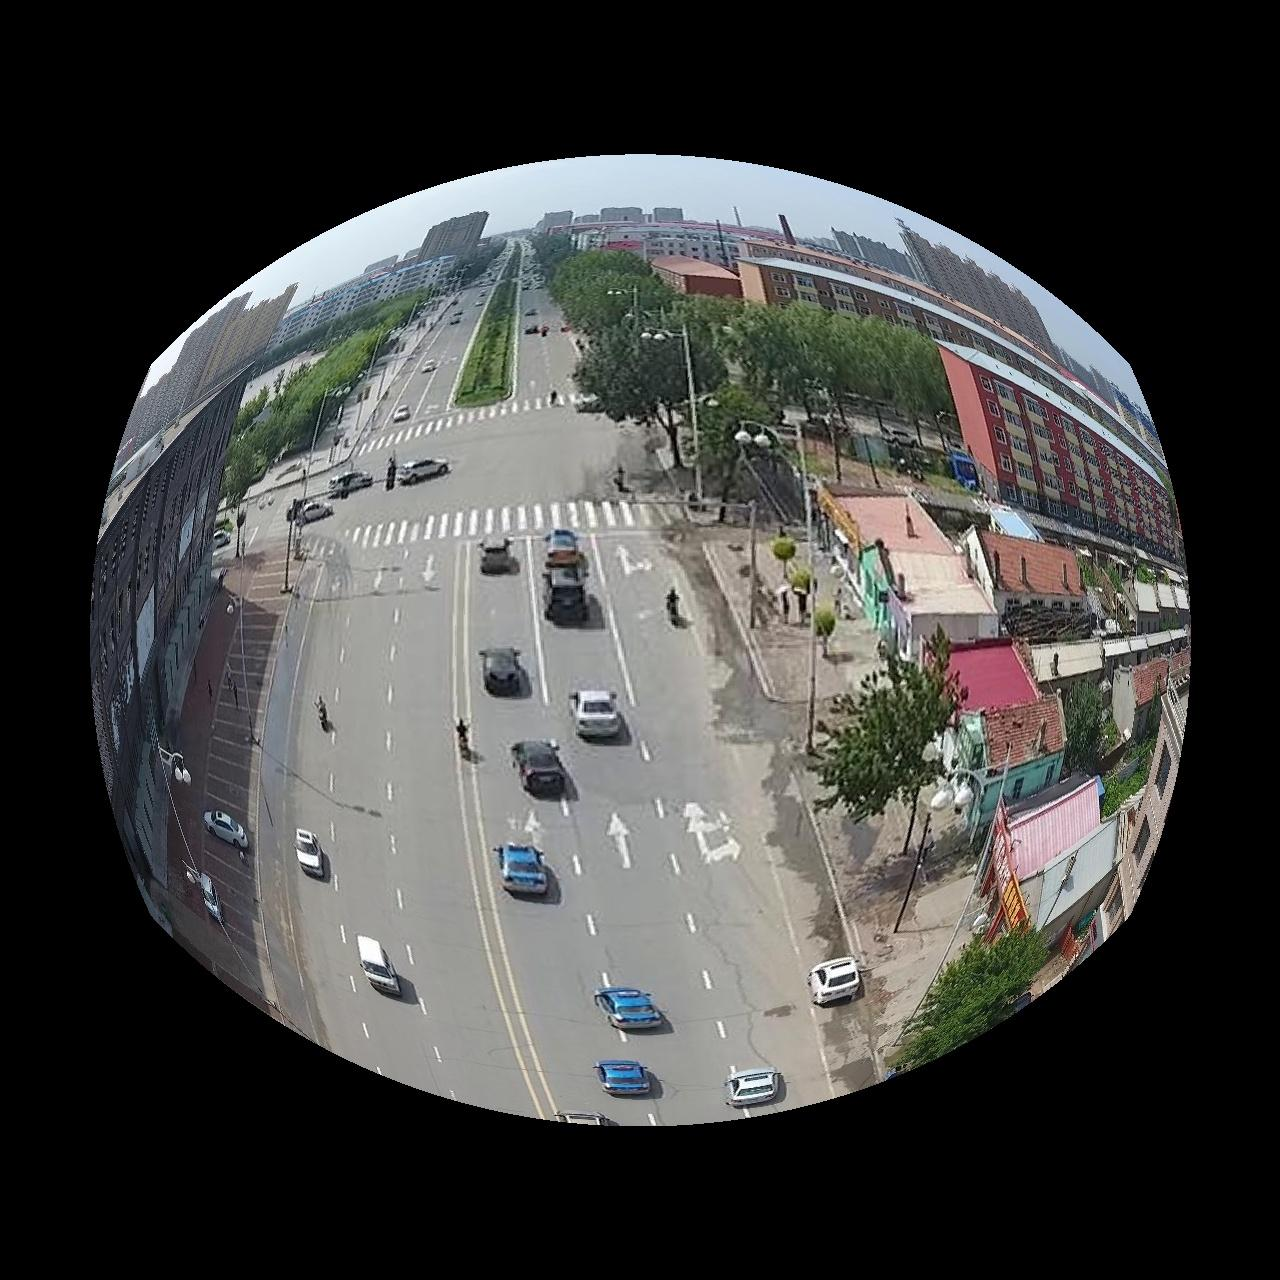building: (738, 238, 1184, 561), (90, 372, 245, 885)
cars: (511, 740, 574, 799), (493, 844, 554, 899), (594, 988, 663, 1032), (726, 1069, 784, 1117), (568, 689, 622, 740), (358, 937, 401, 999), (479, 647, 531, 699), (808, 959, 862, 1008), (545, 567, 590, 625), (202, 811, 248, 852), (595, 1064, 652, 1098), (294, 830, 328, 880), (546, 529, 584, 568), (479, 539, 520, 574), (397, 458, 449, 485), (329, 470, 372, 497), (297, 501, 332, 525)
trees: (702, 302, 954, 477), (222, 291, 423, 508), (550, 250, 728, 465), (815, 634, 961, 852), (896, 930, 1050, 1071)
